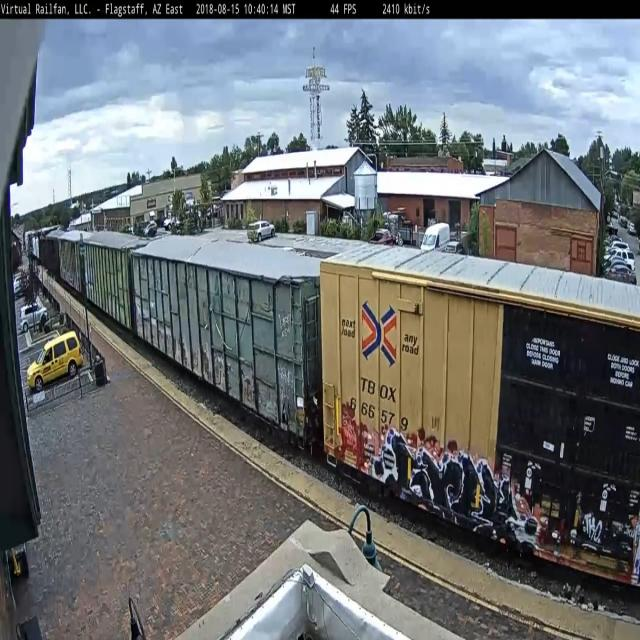boxcar: (312, 227, 640, 610)
gondola: (128, 221, 332, 464)
